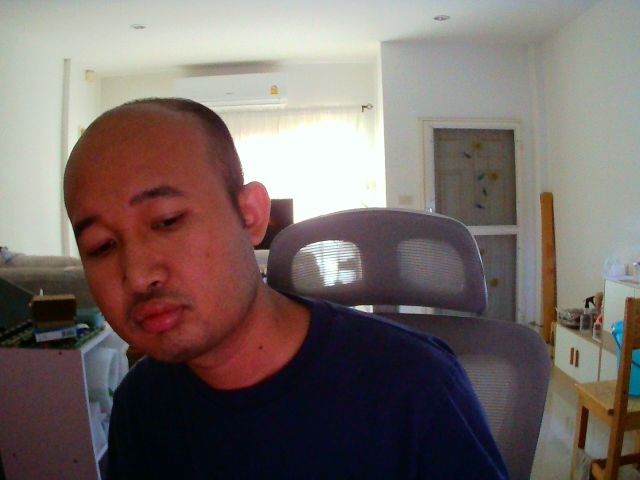face: (61, 92, 262, 367)
